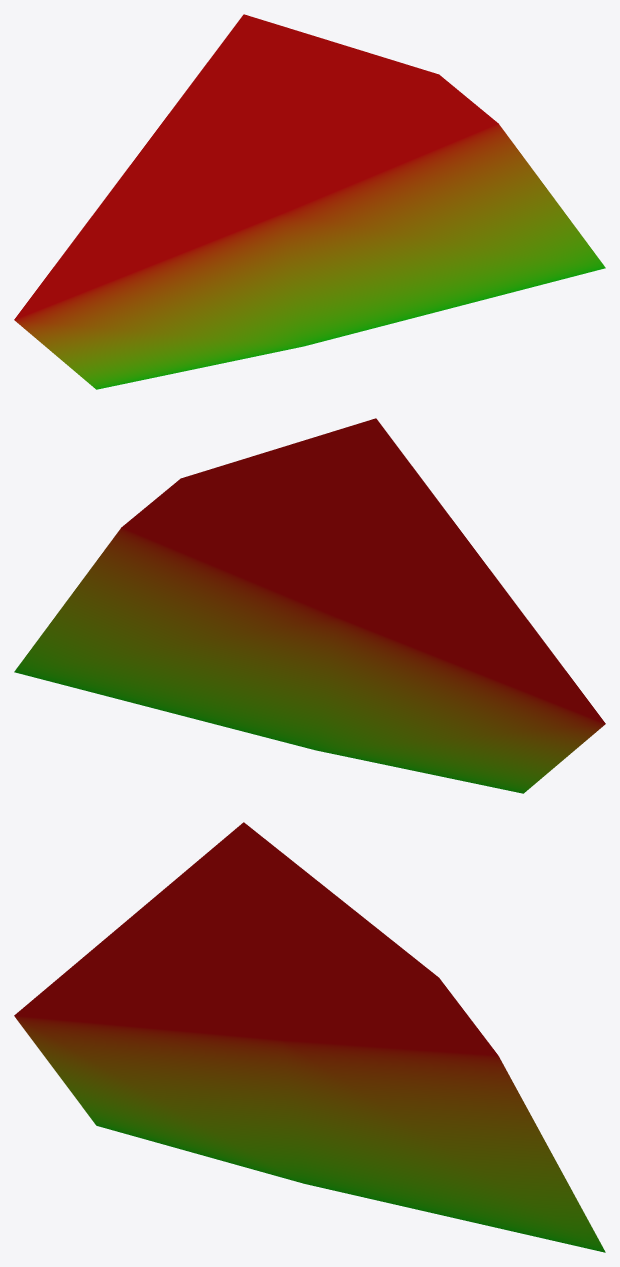
File: Wild Grass_LOD4_Var14_vdilbaiia.fbx
3 views of the same model, one above another, from view 1: azimuth 30°, elevation 25°; view 2: azimuth 150°, elevation 25°; view 3: azimuth 330°, elevation 25° (orthographic).
Visible parts, largest first — view 1: _1n10_Var14_LOD4; view 2: _1n10_Var14_LOD4; view 3: _1n10_Var14_LOD4.
Part boxes in pixels (left/top/right/bottom): _1n10_Var14_LOD4: left=14, top=14, right=605, bottom=389; _1n10_Var14_LOD4: left=14, top=418, right=605, bottom=793; _1n10_Var14_LOD4: left=14, top=822, right=605, bottom=1252.
Size of the model in its own units: 92.66 by 51.89 by 6.19e-06.
